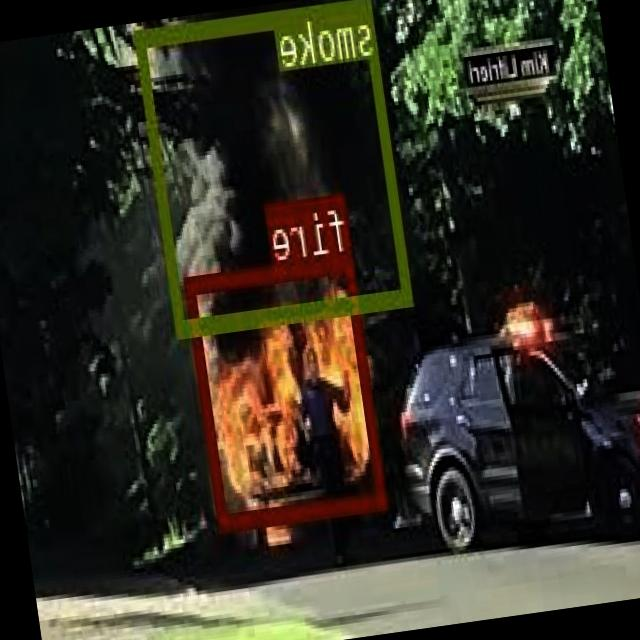fire: (187, 252, 390, 530)
smoke: (137, 0, 415, 333)
